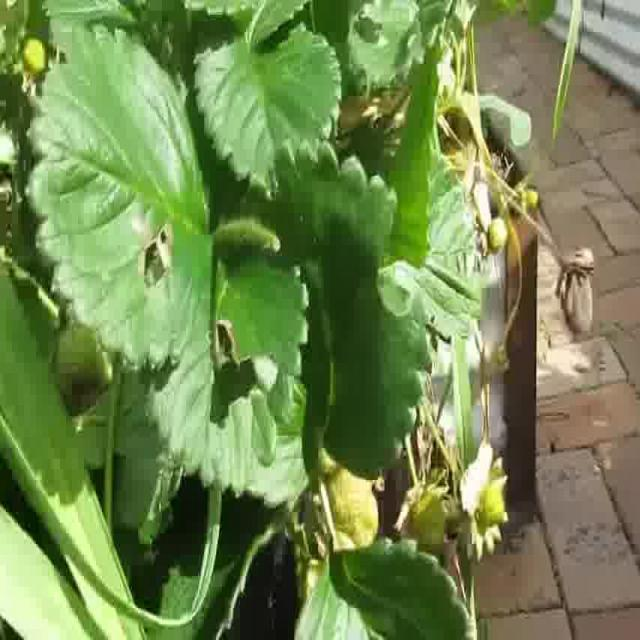Fruta sana: (304, 460, 381, 552), (55, 322, 115, 418), (410, 492, 449, 552), (472, 486, 508, 534), (24, 20, 46, 80), (488, 213, 510, 254), (518, 186, 542, 216)
Moho gris: (558, 254, 596, 339)
